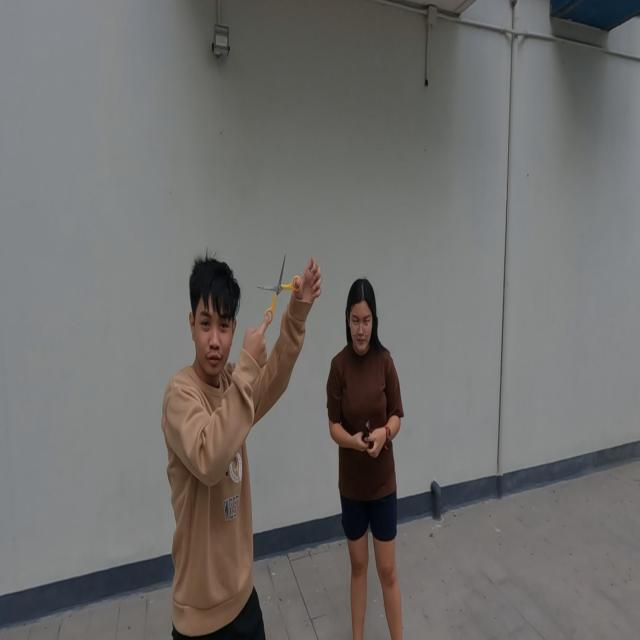scissor: (256, 251, 302, 325)
